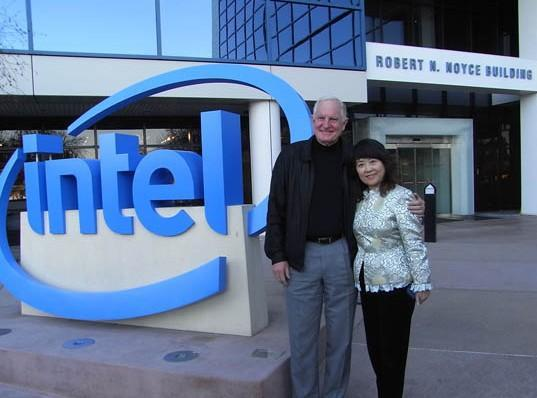intel: (3, 61, 323, 317)
